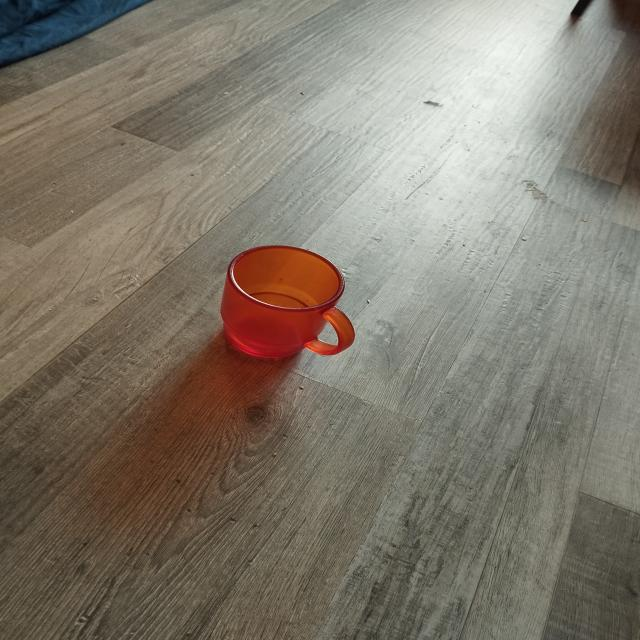Cup: (192, 224, 396, 382)
